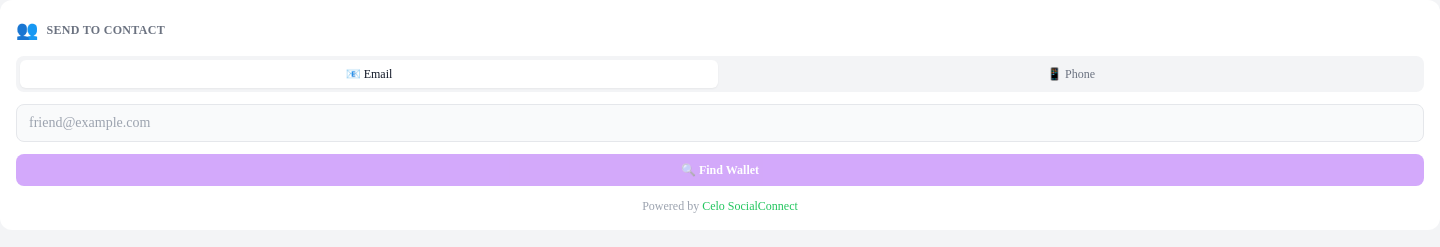
SocialContactPicker › formats phone numbers correctly
The width and height of the screenshot is (1440, 247).
Note: Switch to phone mode
Click the button "📱 Phone" at (1071, 74), box [722, 60, 1420, 88]
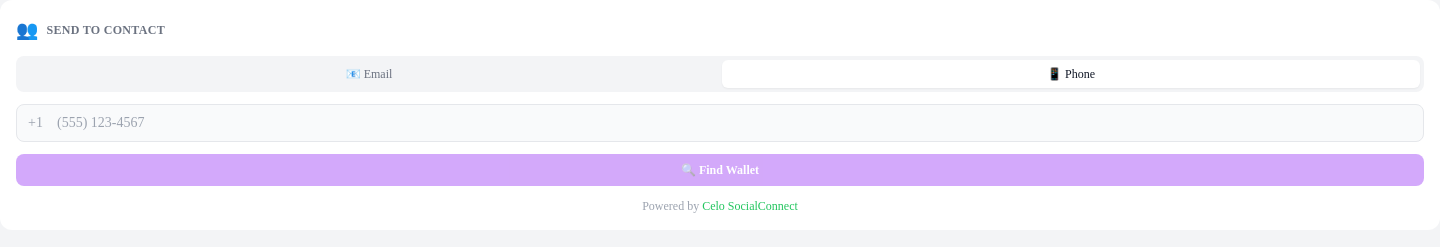
Note: Type a phone number
Type "5551234567" into the field with placeholder "(555) 123-4567" at (720, 123), box [16, 104, 1424, 142]
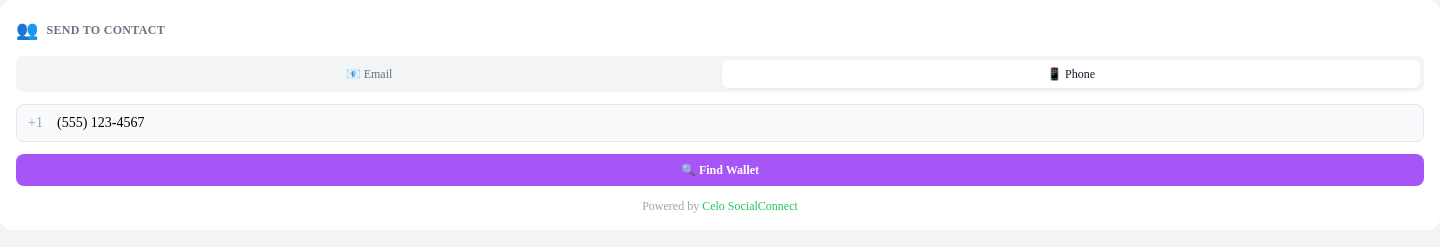
Expected: the field with placeholder "(555) 123-4567" holds "(555) 123-4567", [16, 104, 1424, 142]
